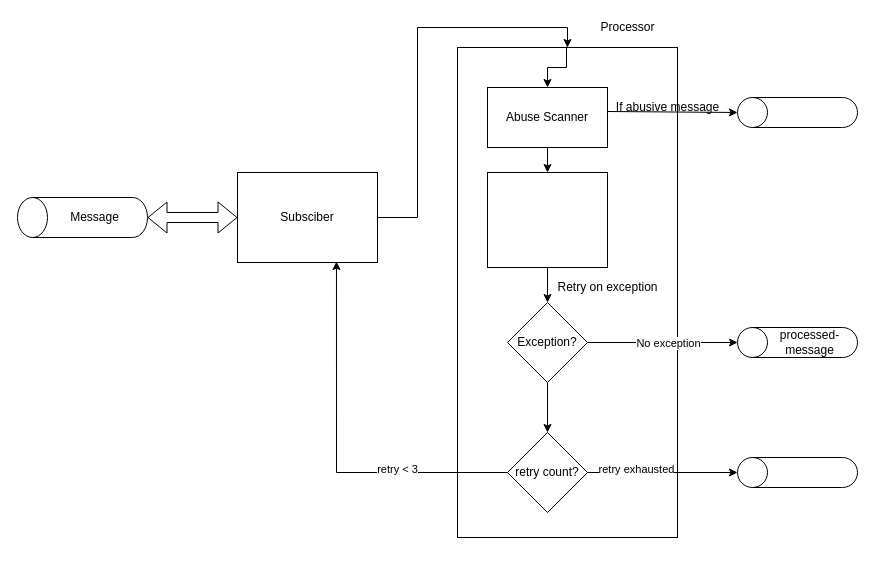
Some shapes in this 875 by 563 pixel diagram are drawn without their labels. The box of each missing label's shape, as (x1, y1, x2, y2) in pixels:
abusive-message: (736, 96, 858, 128)
Confidentiality Scanner: (486, 172, 608, 268)
dlq-message: (736, 456, 858, 488)
